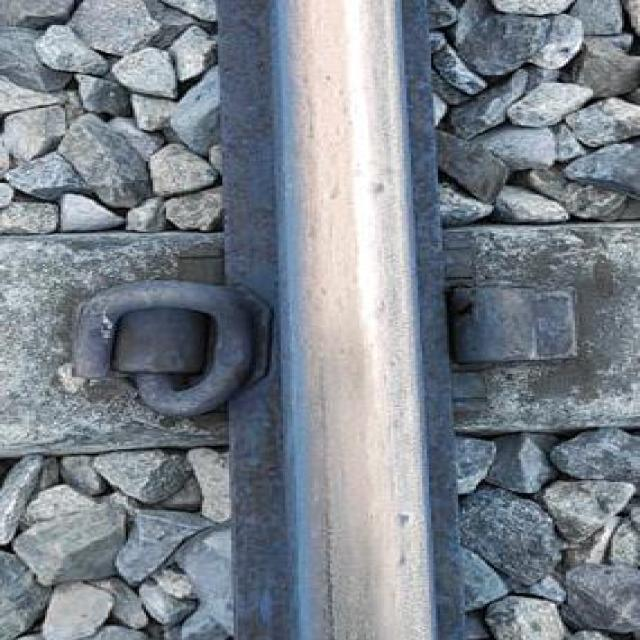Good Fasteners: (23, 229, 278, 437)
Missing Fastener: (436, 256, 595, 392)
